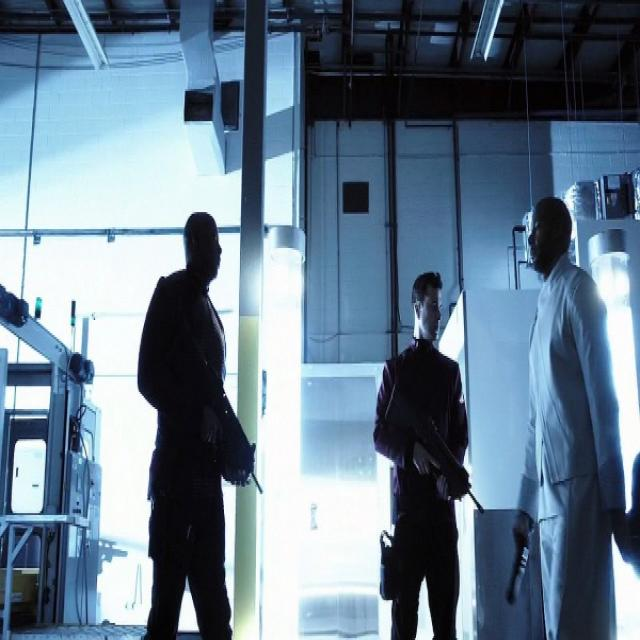rifle: (179, 329, 267, 500), (384, 383, 488, 521)
